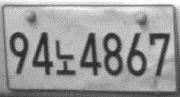4: (30, 31, 54, 76), (78, 31, 102, 76)
6: (125, 31, 147, 77)
7: (147, 31, 171, 77)
8: (101, 31, 124, 76)
9: (8, 30, 29, 75)
노: (55, 39, 76, 76)
